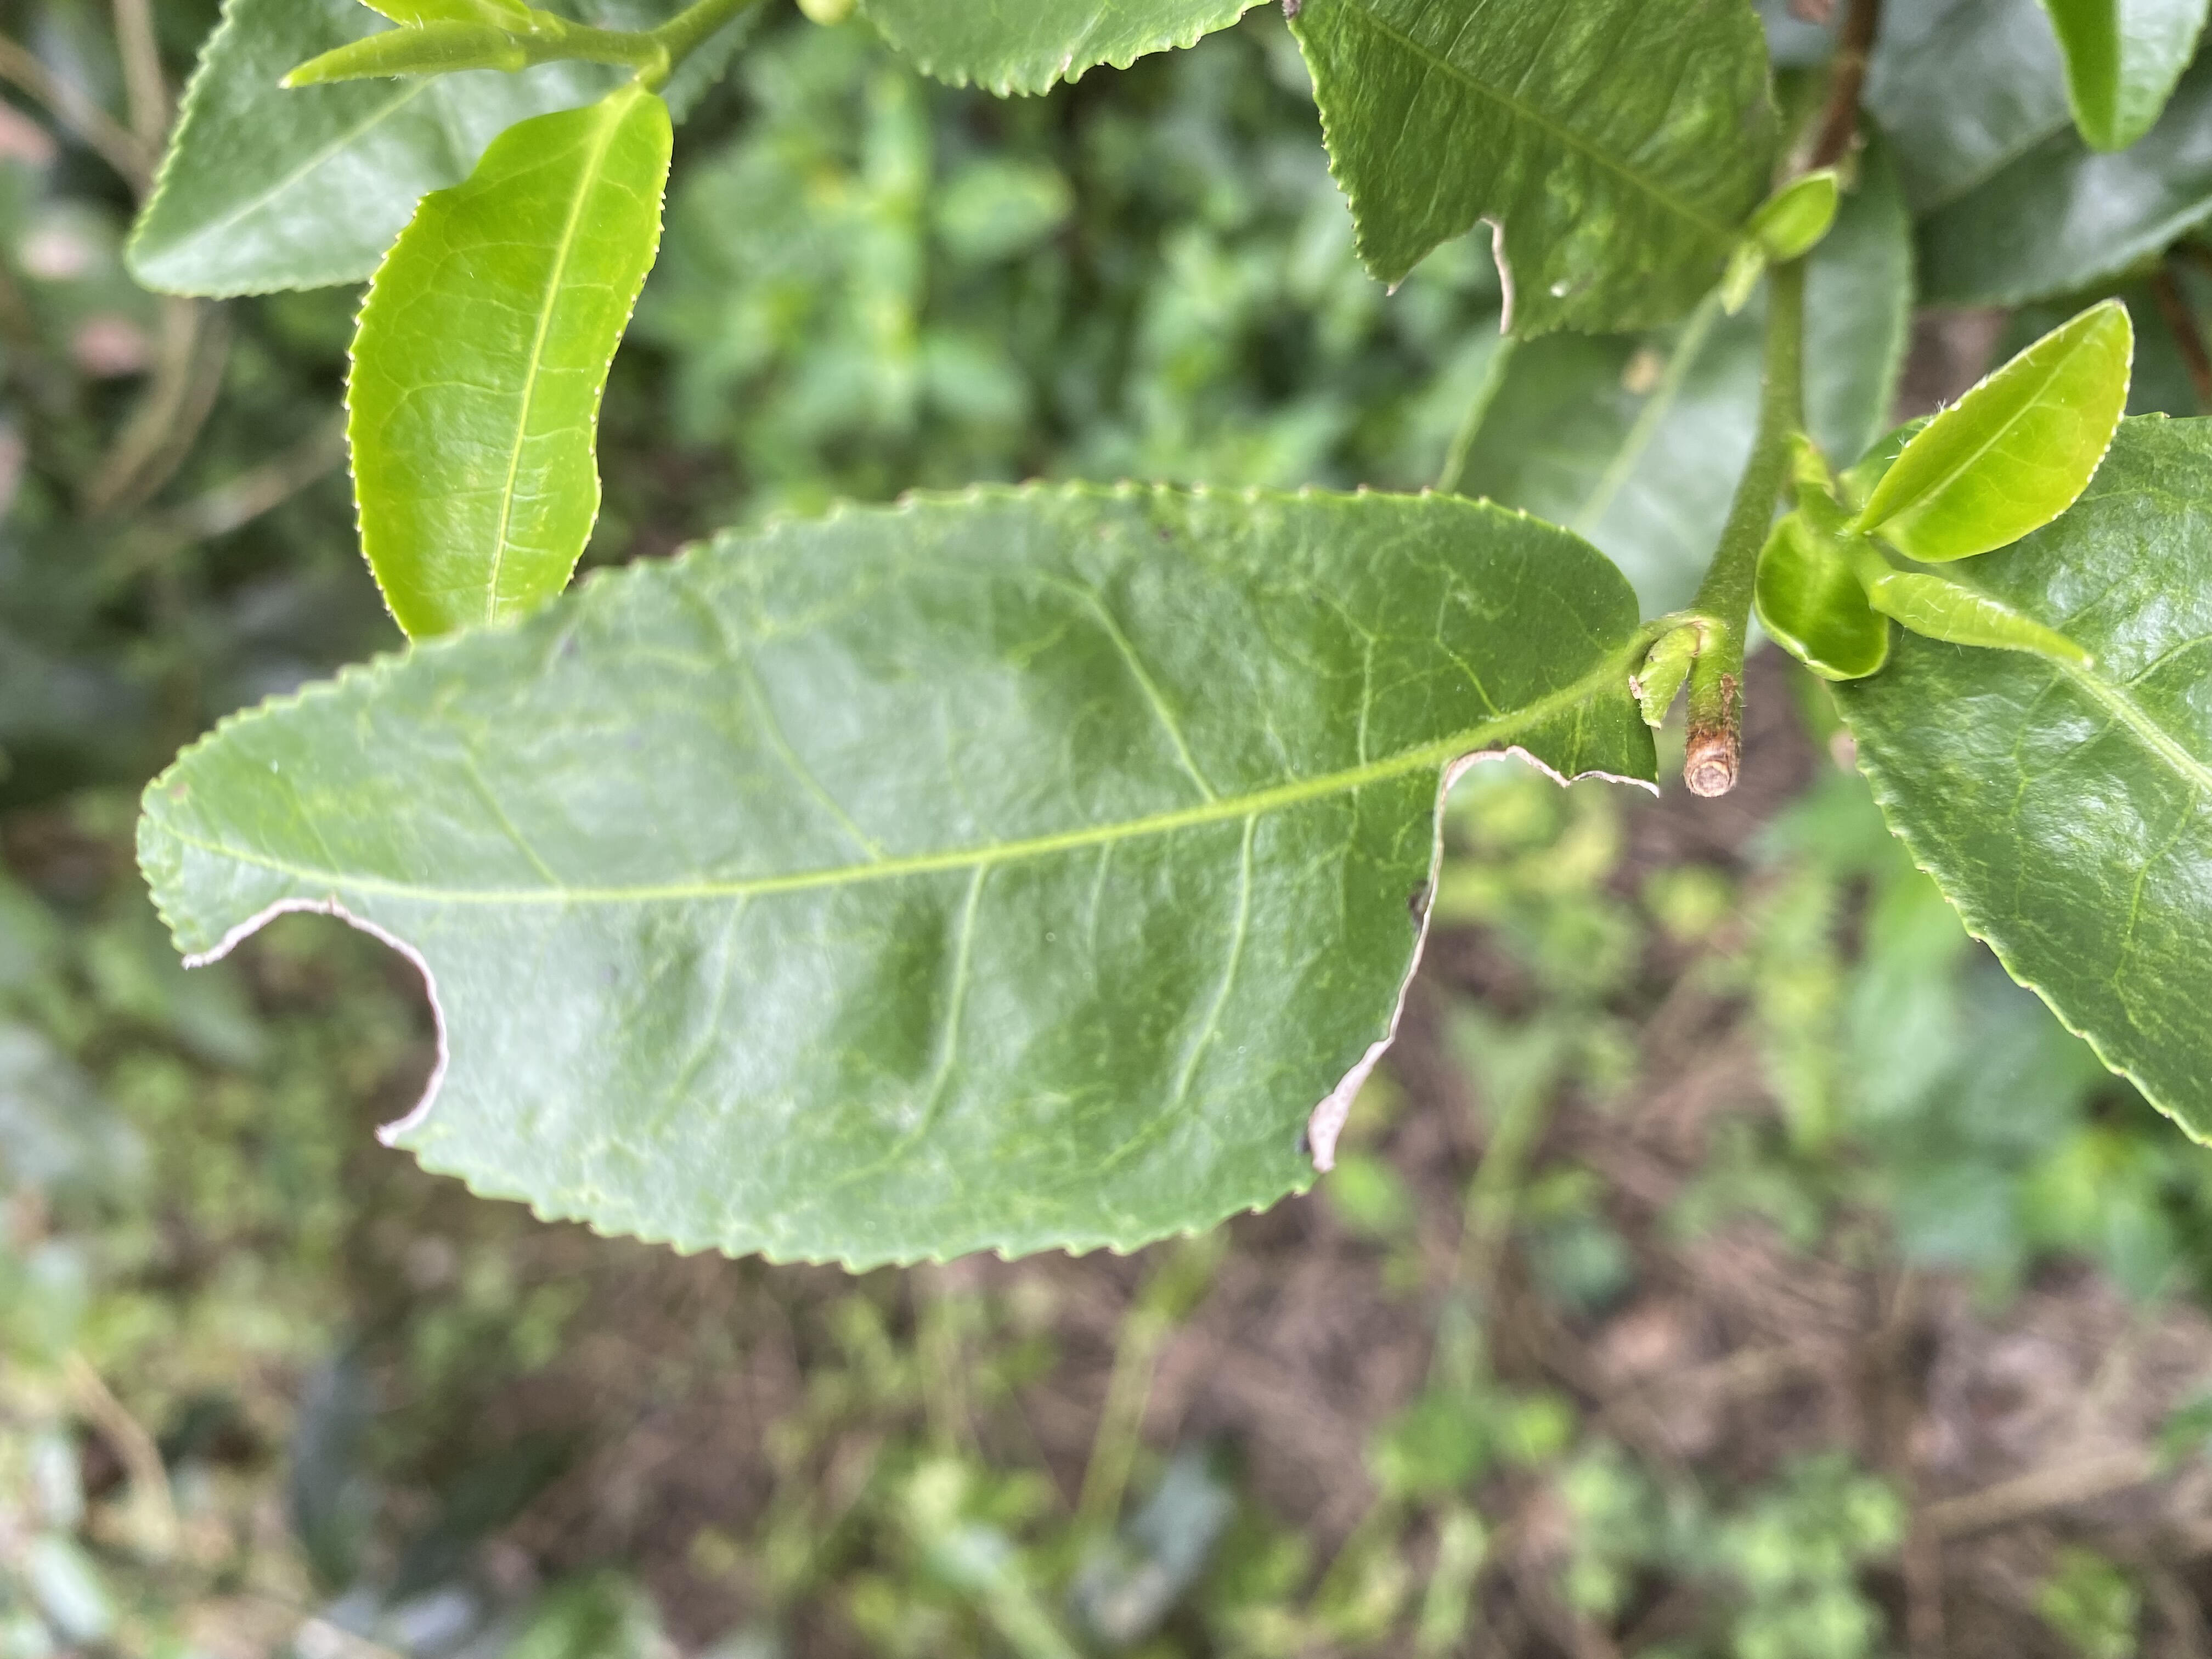chihuo_high: (134, 477, 1663, 1279)
chihuo_low: (1298, 3, 1780, 340)
healthy: (340, 85, 678, 652), (1855, 301, 2137, 565)
